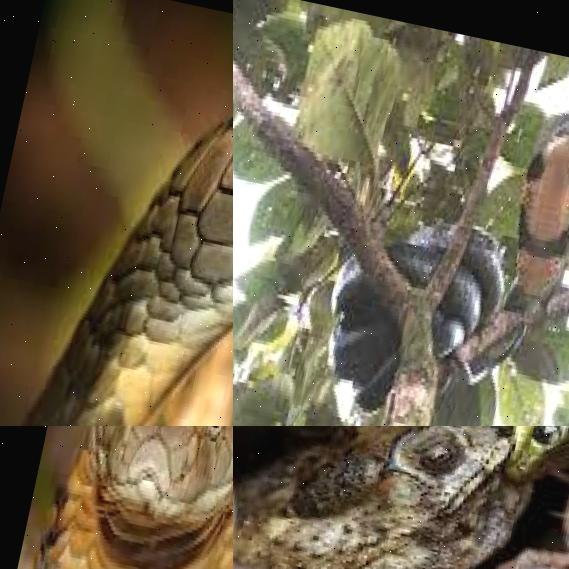snake: (0, 0, 233, 426), (306, 70, 569, 426), (0, 426, 233, 569), (442, 426, 569, 546)
